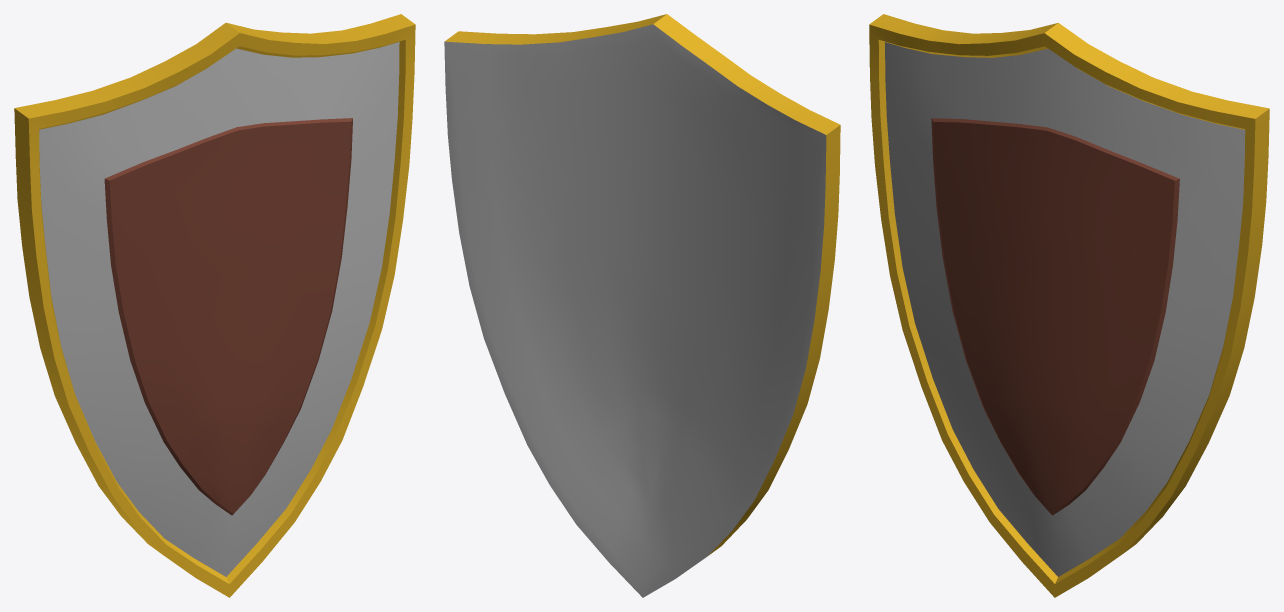
Rendered from Shield.fbx.
3 views of the same model, side by side, from view 1: azimuth 30°, elevation 25°; view 2: azimuth 150°, elevation 25°; view 3: azimuth 330°, elevation 25° (orthographic).
Parts seen in each view (by area): view 1: Shield01; view 2: Shield01; view 3: Shield01.
Part boxes in pixels (box(x1,y1,x2,y2)): Shield01: box(14, 14, 415, 597); Shield01: box(444, 14, 840, 597); Shield01: box(869, 14, 1269, 597).
Bounding box in the file's own units: 38.47 × 54.44 × 5.57.
